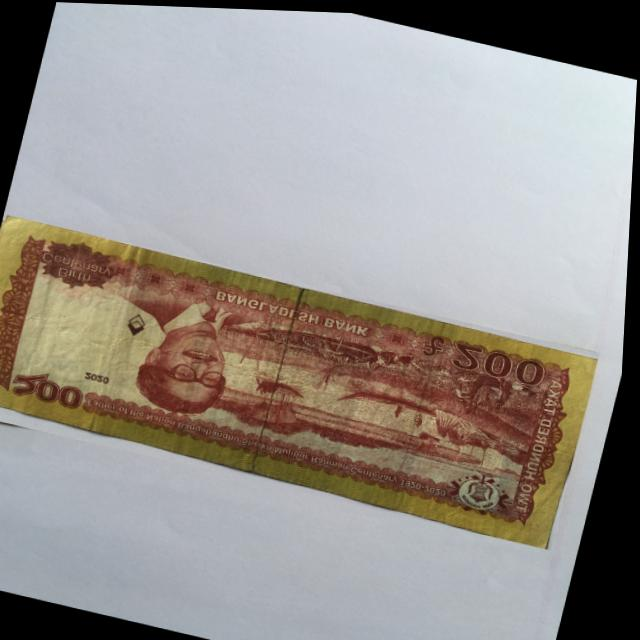Taka: (0, 214, 607, 547)
